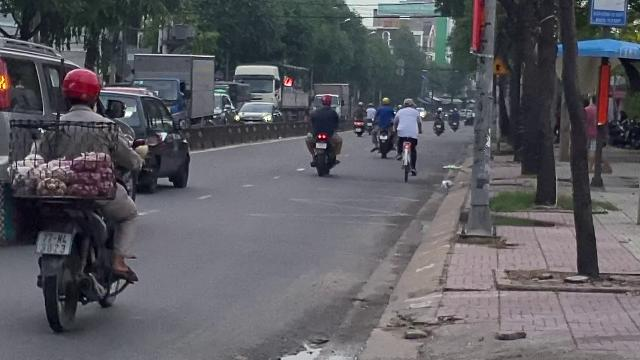helmet: (57, 68, 103, 110)
licenseplate: (37, 232, 71, 254)
motorcyclist: (7, 66, 144, 330)
